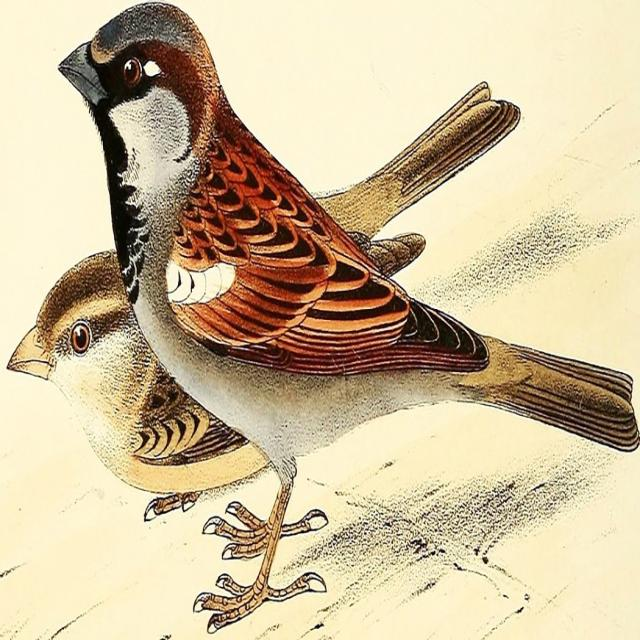sparrow: (59, 3, 639, 633), (7, 250, 269, 520)
